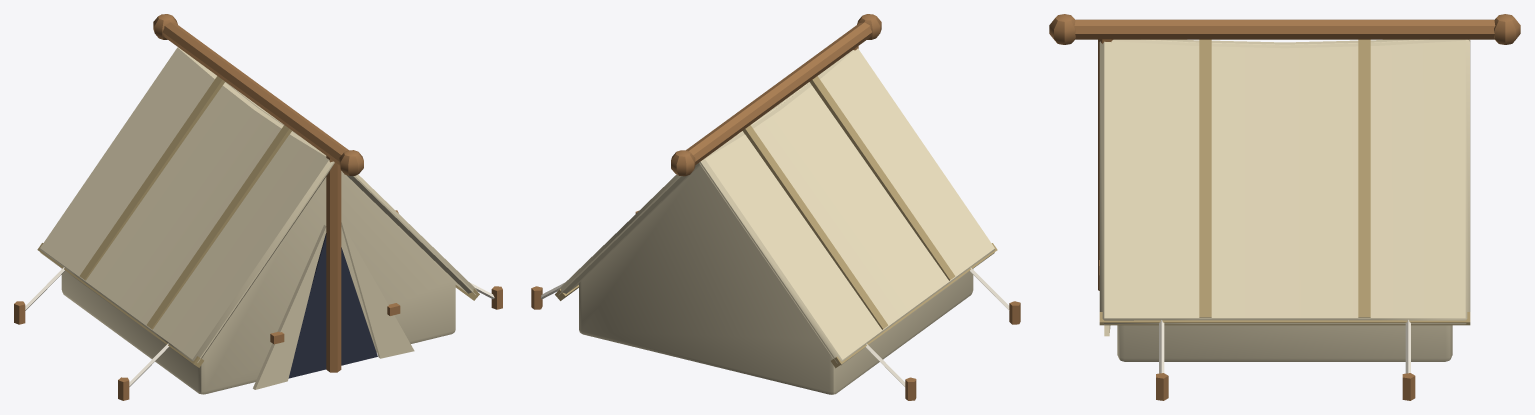
Rendered from Tent.fbx.
3 renders of one model, left to right at view 1: azimuth 30°, elevation 25°; view 2: azimuth 150°, elevation 25°; view 3: azimuth 270°, elevation 25°, orthographic. The views are drawn at different scales.
Parts seen in each view (by area): view 1: Tent; view 2: Tent; view 3: Tent.
Part boxes in pixels (box(x1,y1,x2,y2)): Tent: box(14, 14, 502, 400); Tent: box(531, 14, 1020, 400); Tent: box(1049, 14, 1520, 400).
Bounding box in the file's own units: 2.98 × 1.72 × 2.67.
